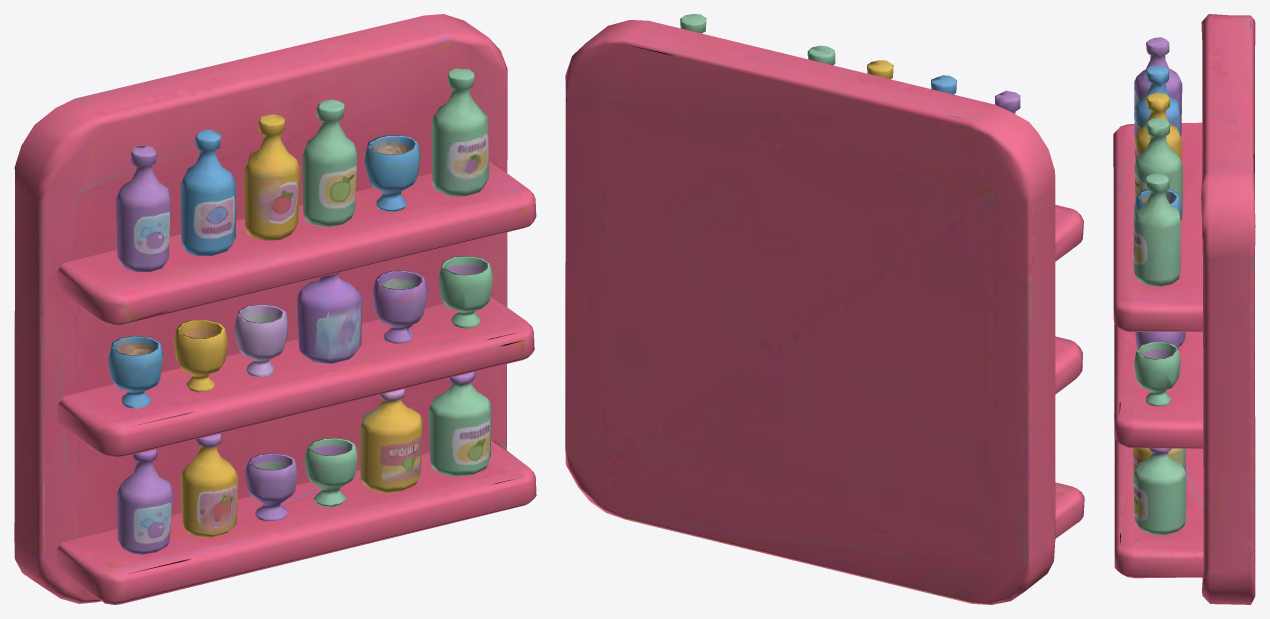
Rendered from bottle-shelf.glb.
The picture shows the model from 3 angles, left to right: view 1: azimuth 30°, elevation 25°; view 2: azimuth 150°, elevation 25°; view 3: azimuth 270°, elevation 25°; orthographic projection. The views are drawn at different scales.
Visible parts, largest first — view 1: geometry_0; view 2: geometry_0; view 3: geometry_0.
Boxes of the visible parts, left/top/right/bottom form: geometry_0: left=14, top=14, right=536, bottom=604; geometry_0: left=565, top=14, right=1084, bottom=604; geometry_0: left=1113, top=14, right=1255, bottom=604.
Size of the model in its own units: 1 by 0.9899 by 0.2972.
Materials: 1 (1 with a texture image).
